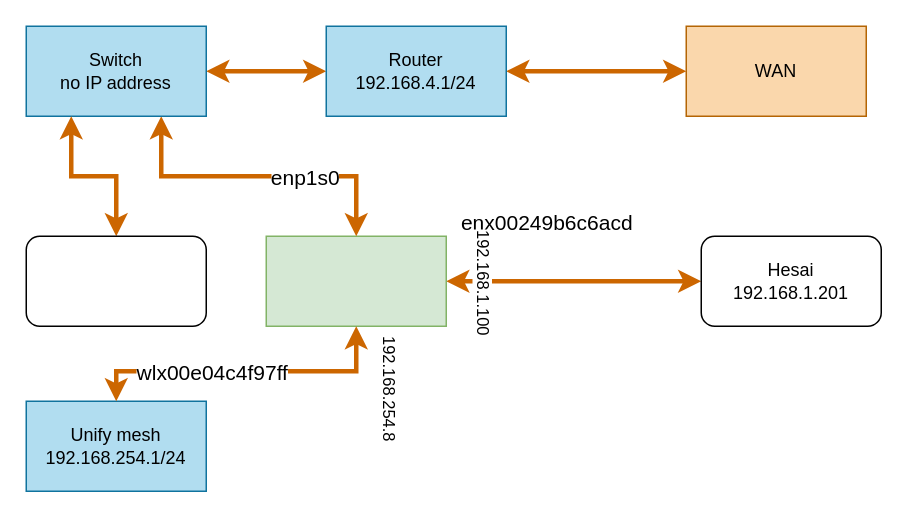
This 908x525 diagram has some shape labels left out. The shapes that lost their labels are listed below. From the top down, each one's box as (x1, y1, x2, y2) in pixels, then its label:
(25, 235, 206, 326): Kinova Arm 192.168.4.4
(265, 235, 446, 326): Dell 192.168.4.2 ROS 2 Humble
